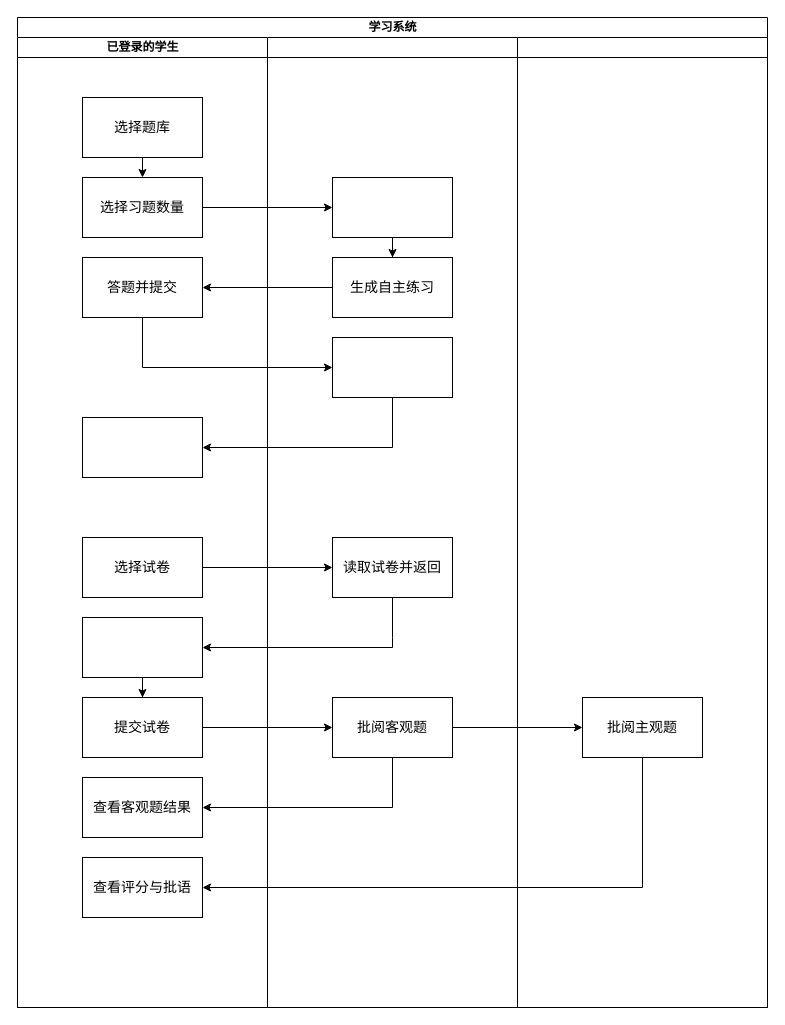
Some shapes in this 785 by 1025 pixel diagram are drawn without their labels. The box of each missing label's shape, as (x1, y1, x2, y2) in pixels:
完成试卷: (82, 616, 202, 678)
批阅: (332, 336, 452, 398)
抽取习题: (332, 176, 452, 238)
查看结果: (82, 416, 202, 478)
管理员: (516, 36, 768, 1008)
系统: (266, 36, 518, 1008)
